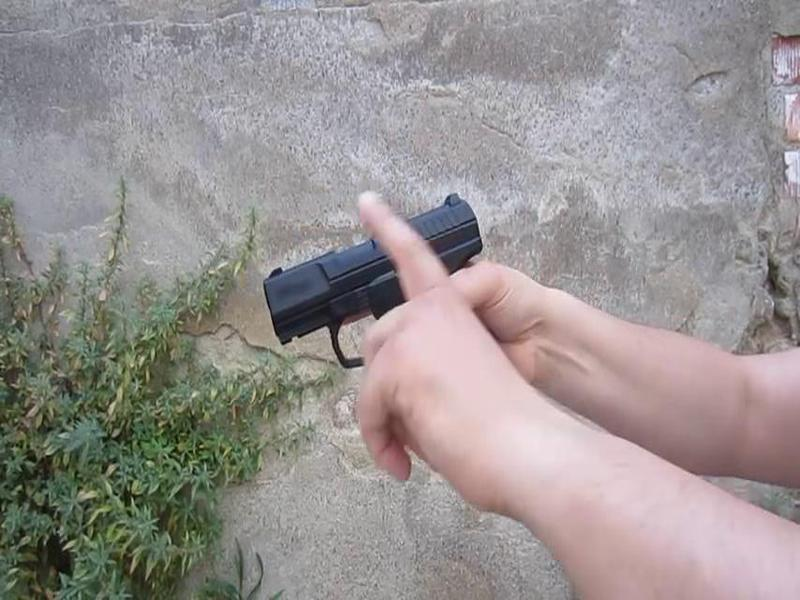Pistola: (240, 164, 569, 451)
